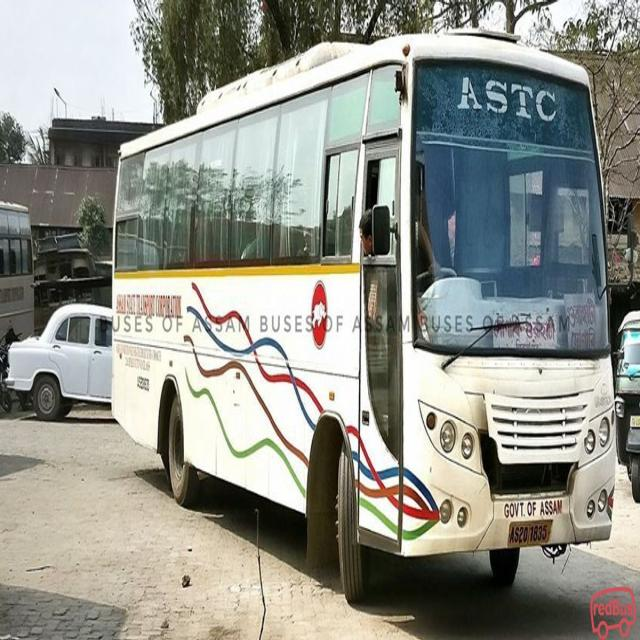Bus: (108, 14, 623, 584), (0, 198, 42, 406)
Car: (8, 288, 119, 419)
tempo: (609, 287, 640, 506)
